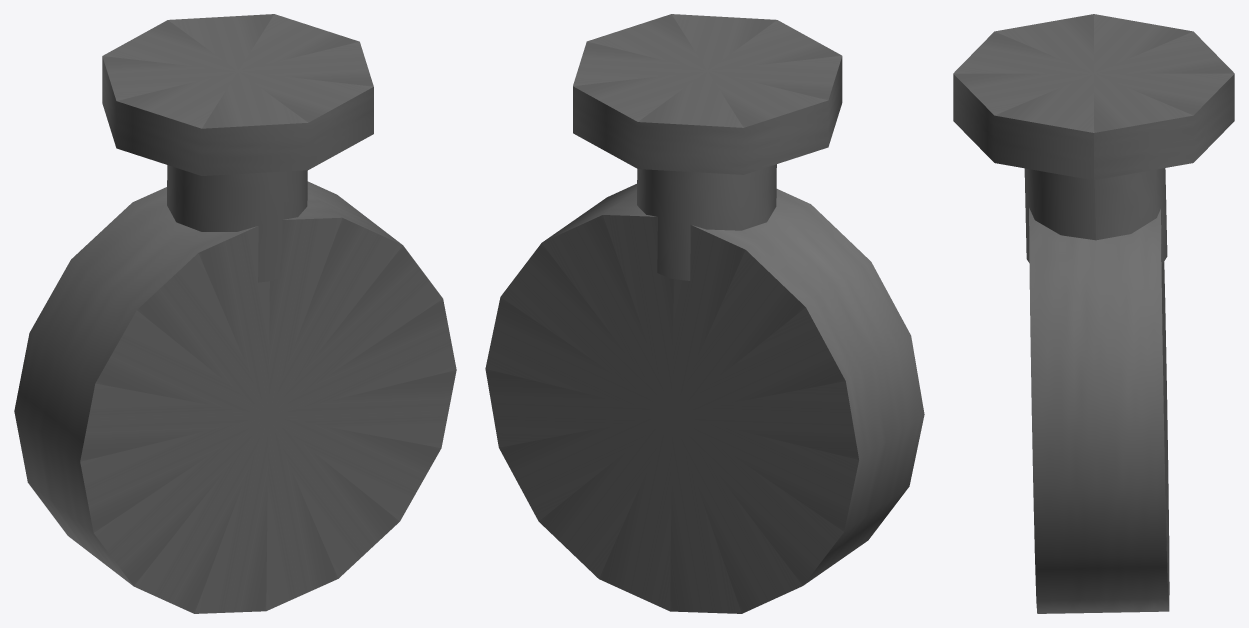
File: mastarmcurve_10x2_c11_up.obj
3 renders of one model, left to right at view 1: azimuth 30°, elevation 25°; view 2: azimuth 150°, elevation 25°; view 3: azimuth 270°, elevation 25°, orthographic.
Parts seen in each view (by area): view 1: mastarm_10x2_c11_up; view 2: mastarm_10x2_c11_up; view 3: mastarm_10x2_c11_up.
Part boxes in pixels (x1,y1,x2,y2): mastarm_10x2_c11_up: (14,14,456,613); mastarm_10x2_c11_up: (485,14,924,613); mastarm_10x2_c11_up: (953,14,1234,613).
Bounding box in the file's own units: 0.6187 × 0.8153 × 0.4.
